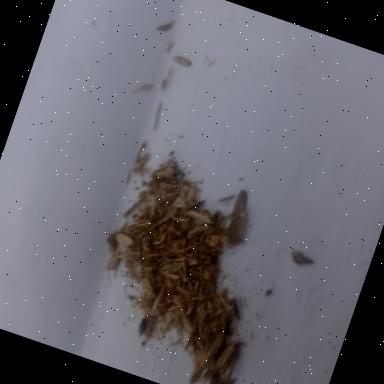pbw: (201, 326, 226, 372), (212, 336, 238, 376), (186, 204, 218, 226), (114, 230, 136, 248)
